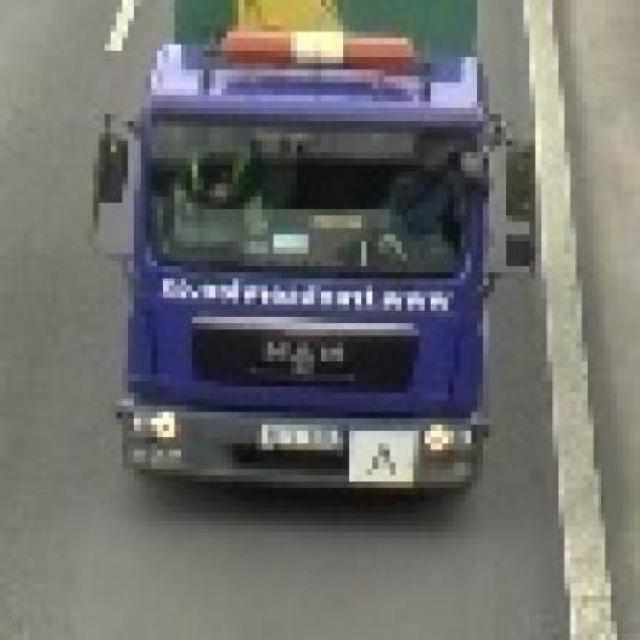truck: (89, 1, 536, 509)
